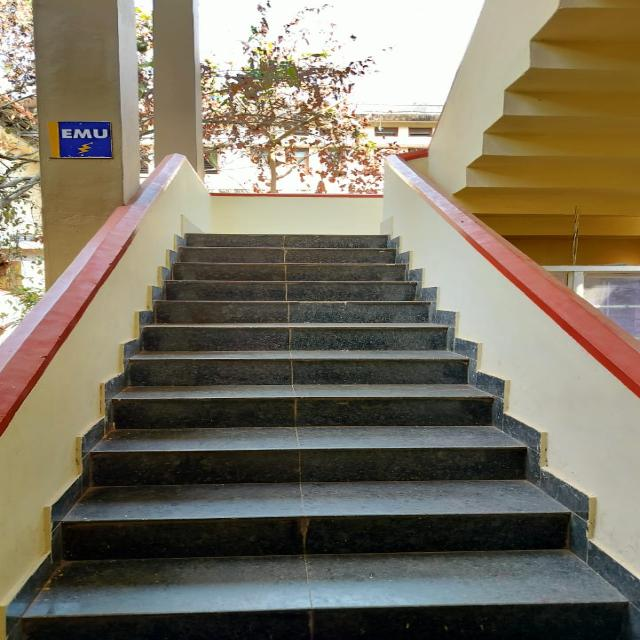stairs ahead at: (4, 231, 631, 617)
